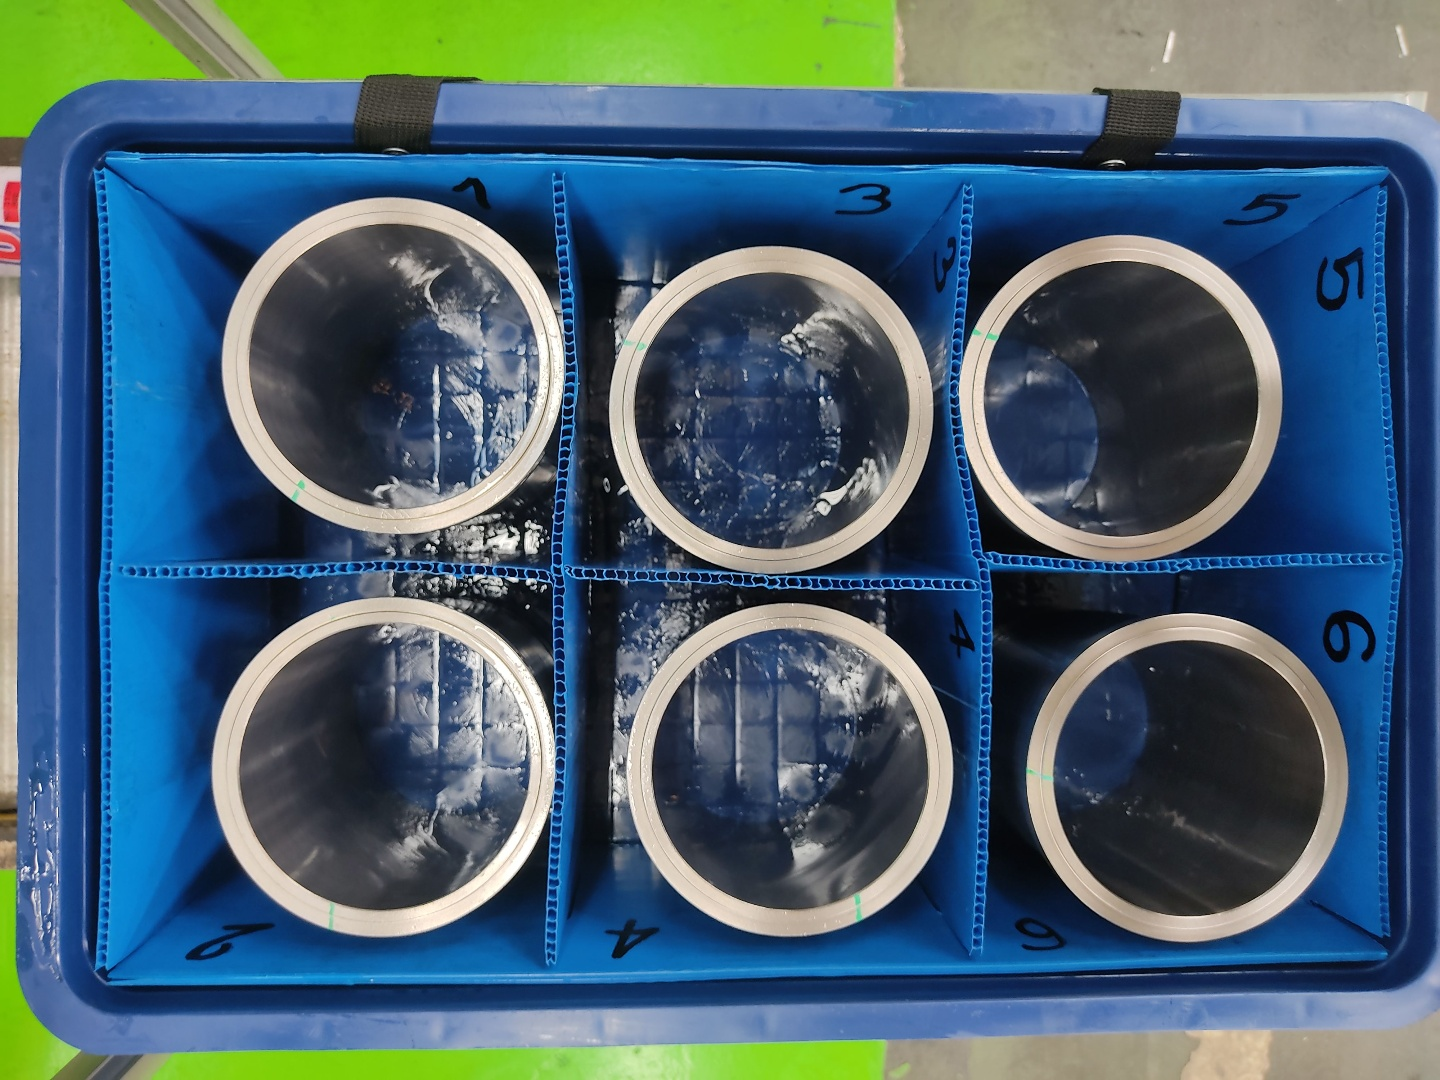cylinder: (215, 191, 569, 539), (209, 594, 560, 944), (622, 600, 957, 943), (602, 243, 937, 582), (955, 230, 1287, 568), (1024, 608, 1353, 950)
